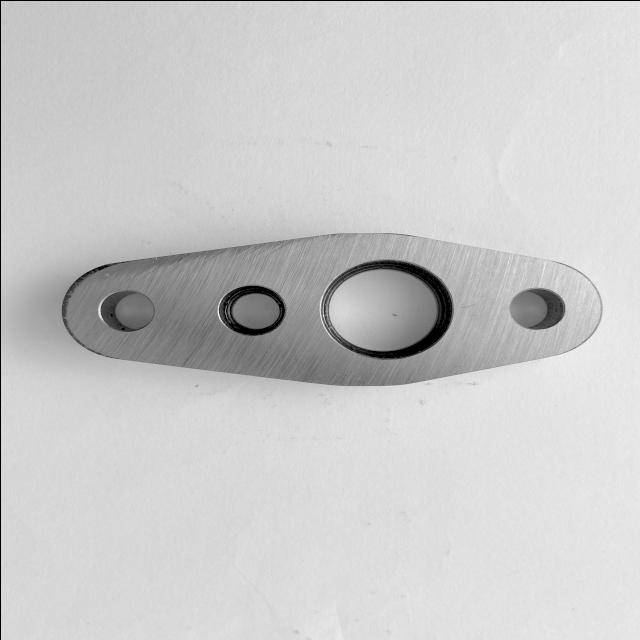lines: (457, 300, 478, 310)
